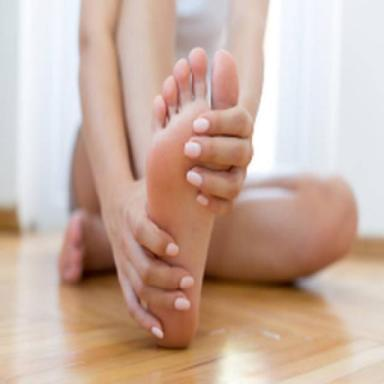normal skin: (60, 0, 357, 347)
